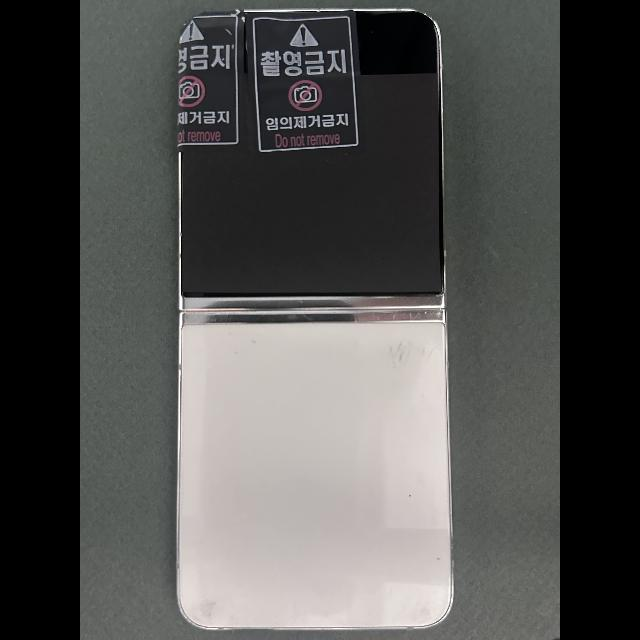phone: (176, 8, 455, 632)
sticker: (245, 10, 366, 159), (177, 9, 247, 152)
